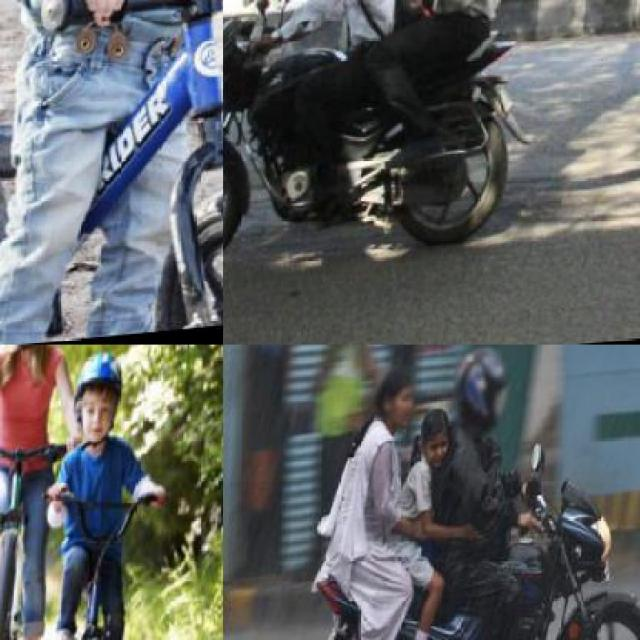With Helmet: (452, 345, 518, 449), (73, 358, 130, 451)
Without Helmet: (377, 368, 421, 427), (420, 412, 458, 466)
